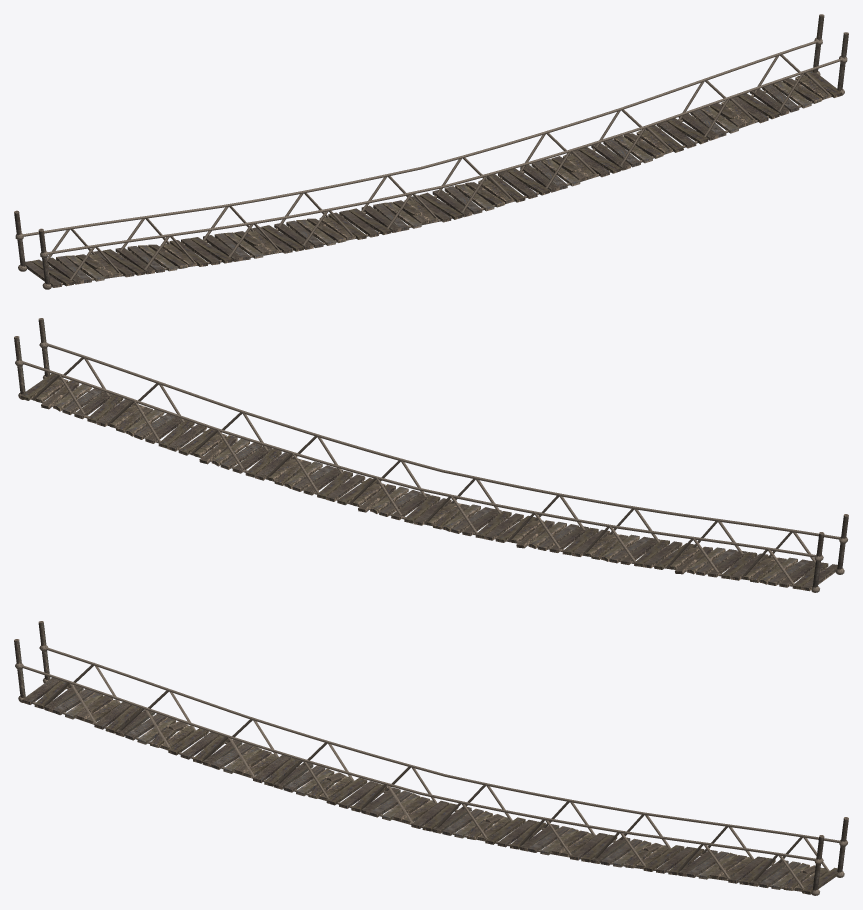
Rendered from Scaffolding_BridgeLarge.fbx.
3 views of the same model, one above another, from view 1: azimuth 30°, elevation 25°; view 2: azimuth 150°, elevation 25°; view 3: azimuth 330°, elevation 25° (orthographic).
Parts seen in each view (by area): view 1: CDTMesh_Scaffolding_BridgeLarge; view 2: CDTMesh_Scaffolding_BridgeLarge; view 3: CDTMesh_Scaffolding_BridgeLarge.
Part boxes in pixels (x1,y1,x2,y2): CDTMesh_Scaffolding_BridgeLarge: [14, 14, 848, 289]; CDTMesh_Scaffolding_BridgeLarge: [14, 318, 848, 592]; CDTMesh_Scaffolding_BridgeLarge: [14, 621, 848, 895].
Bounding box in the file's own units: 50.68 × 5.32 × 3.47.
